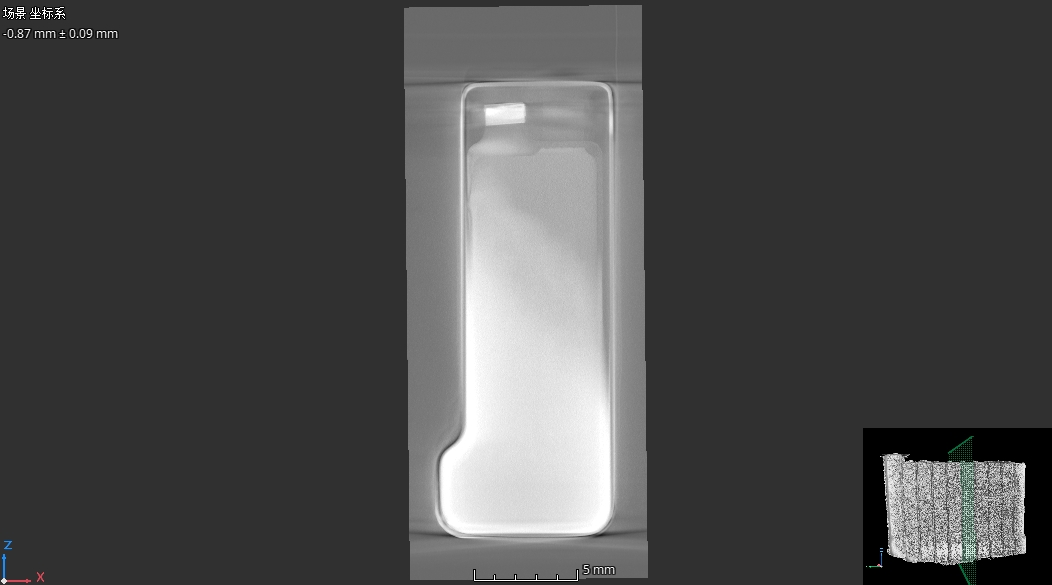damage: (465, 190, 475, 247)
